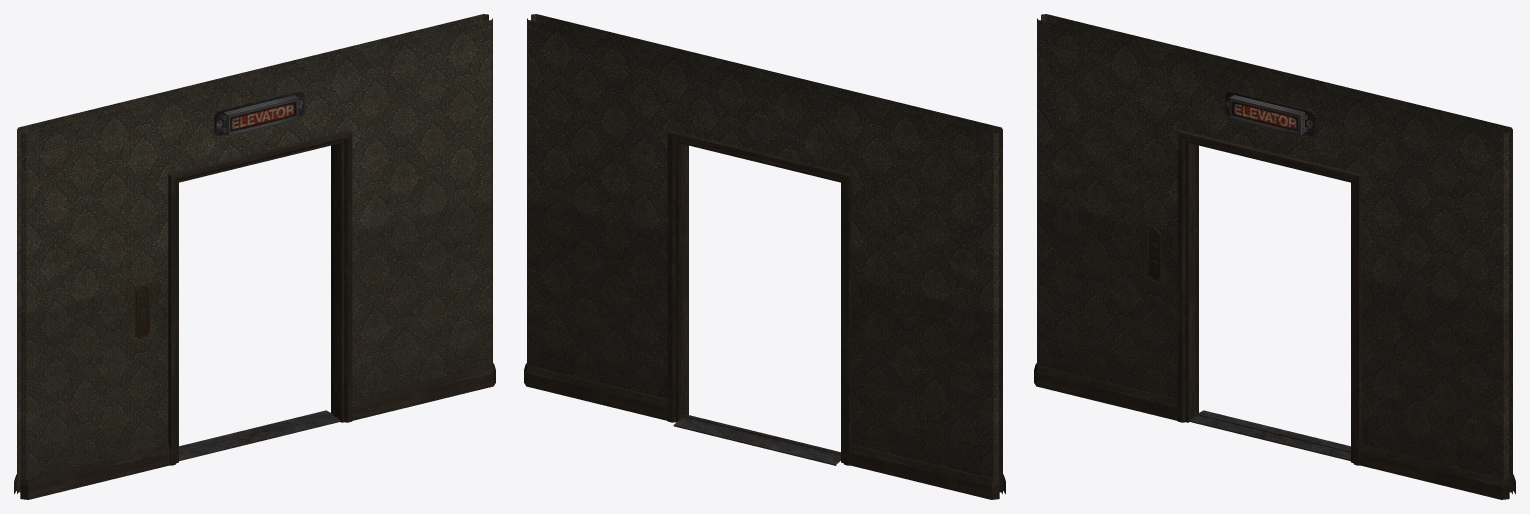
File: elevator_doorway_2.fbx
3 renders of one model, left to right at view 1: azimuth 30°, elevation 25°; view 2: azimuth 150°, elevation 25°; view 3: azimuth 330°, elevation 25°, orthographic.
Visible parts, largest first — view 1: elevator_doorway_2; view 2: elevator_doorway_2; view 3: elevator_doorway_2.
Boxes of the visible parts, x1=… form: elevator_doorway_2: x1=14, y1=14, x2=495, y2=499; elevator_doorway_2: x1=524, y1=14, x2=1005, y2=499; elevator_doorway_2: x1=1034, y1=14, x2=1515, y2=499.
Bounding box in the file's own units: 4.09 × 0.29 × 3.
